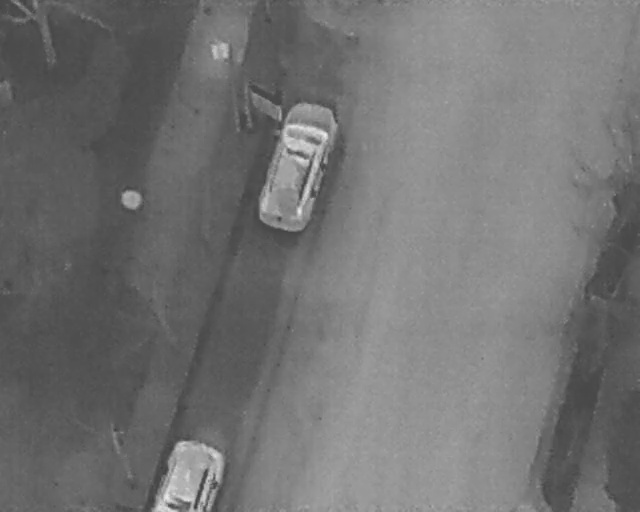Car: (251, 95, 340, 238), (150, 439, 226, 512)
